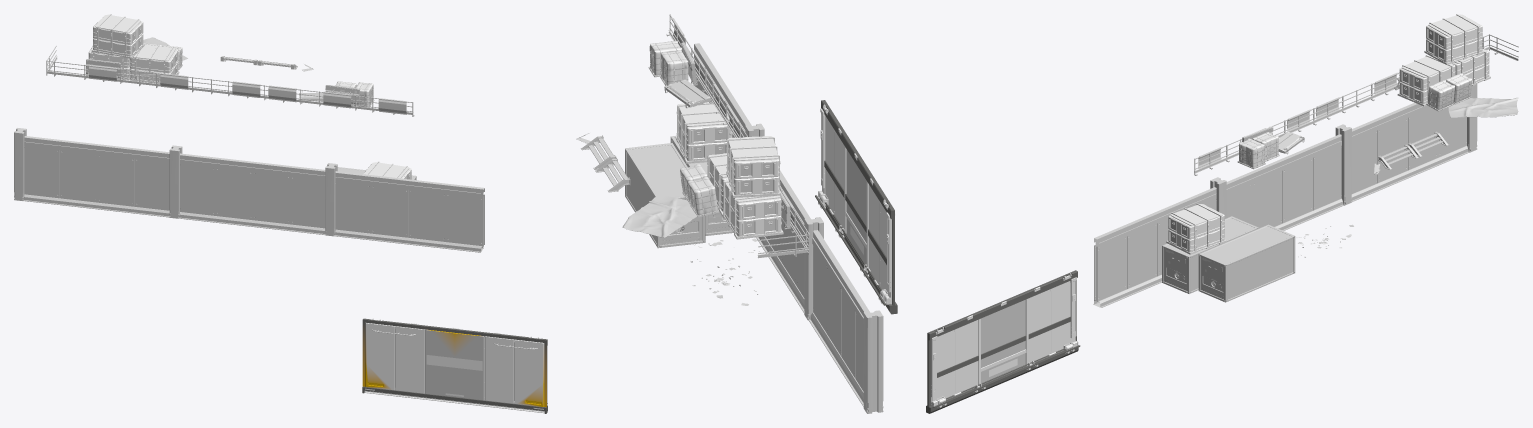
File: cell_165_103.fbx
3 renders of one model, left to right at view 1: azimuth 30°, elevation 25°; view 2: azimuth 150°, elevation 25°; view 3: azimuth 270°, elevation 25°, orthographic. The views are drawn at different scales.
Visible parts, largest first — view 1: SM_H_Customiz_FoldDoor_01B.mo, SM_H_Fence_SoundproofWall_02.mo.011, SM_H_Fence_SoundproofWall_02.mo.010, SM_H_Fence_SoundproofWall_02.mo.009, SM_H_Industrial_Container_SupplyBox_01.mo.021, SM_H_Industrial_Container_SupplyBox_01.mo.023, SM_H_Industrial_Container_SupplyBox_01.mo.035; view 2: SM_H_Customiz_FoldDoor_01B.mo, SM_H_Fence_SoundproofWall_02.mo.009, SM_H_Industrial_Container_02.mo.272, SM_H_Fence_SoundproofWall_02.mo.010, SM_H_Industrial_Container_SupplyBox_01.mo.021, SM_H_Industrial_Container_SupplyBox_01.mo.035, SM_H_Industrial_Container_SupplyBox_01.mo.022, SM_H_IceLand_Props_WeatherCloth_05a.mo.002, SM_H_Fence_SoundproofWall_02.mo.011, SM_H_Industrial_Container_SupplyBox_02B.mo.056, SM_H_Industrial_Container_SupplyBox_02B.mo.063, SM_H_Industrial_Container_SupplyBox_01.mo.023 (+8 smaller); view 3: SM_H_Customiz_FoldDoor_01B.mo, SM_H_Fence_SoundproofWall_02.mo.010, SM_H_Fence_SoundproofWall_02.mo.009, SM_H_Fence_SoundproofWall_02.mo.011, SM_H_Industrial_Container_02.mo.272, SM_H_Industrial_Container_SupplyBox_01.mo.021, SM_H_Industrial_Container_SupplyBox_01.mo.035, SM_H_Industrial_Container_02.mo.273, SM_H_Industrial_Container_SupplyBox_01.mo.023, SM_H_IceLand_Props_WeatherCloth_05a.mo.002, SM_H_Industrial_Container_SupplyBox_01.mo.022, SM_H_Industrial_Container_SupplyBox_02B.mo.058 (+1 smaller).
Boxes of the visible parts, box(x1,y1,x2,y2) form: SM_H_Customiz_FoldDoor_01B.mo: box(362, 318, 547, 413); SM_H_Fence_SoundproofWall_02.mo.011: box(325, 163, 484, 252); SM_H_Fence_SoundproofWall_02.mo.010: box(169, 145, 325, 234); SM_H_Fence_SoundproofWall_02.mo.009: box(14, 128, 169, 217); SM_H_Industrial_Container_SupplyBox_01.mo.021: box(91, 14, 144, 58); SM_H_Industrial_Container_SupplyBox_01.mo.023: box(129, 43, 179, 83); SM_H_Industrial_Container_SupplyBox_01.mo.035: box(363, 161, 411, 179); SM_H_Customiz_FoldDoor_01B.mo: box(815, 100, 897, 314); SM_H_Fence_SoundproofWall_02.mo.009: box(808, 230, 883, 413); SM_H_Industrial_Container_02.mo.272: box(625, 143, 705, 248); SM_H_Fence_SoundproofWall_02.mo.010: box(756, 170, 823, 320); SM_H_Industrial_Container_SupplyBox_01.mo.021: box(726, 136, 780, 197); SM_H_Industrial_Container_SupplyBox_01.mo.035: box(675, 101, 732, 163); SM_H_Industrial_Container_SupplyBox_01.mo.022: box(721, 179, 783, 239); SM_H_IceLand_Props_WeatherCloth_05a.mo.002: box(622, 195, 697, 237); SM_H_Fence_SoundproofWall_02.mo.011: box(694, 43, 764, 137); SM_H_Industrial_Container_SupplyBox_02B.mo.056: box(687, 176, 718, 217); SM_H_Industrial_Container_SupplyBox_02B.mo.063: box(660, 50, 688, 85); SM_H_Industrial_Container_SupplyBox_01.mo.023: box(707, 153, 728, 213); SM_H_Customiz_FoldDoor_01B.mo: box(926, 270, 1080, 413); SM_H_Fence_SoundproofWall_02.mo.010: box(1226, 124, 1351, 230); SM_H_Fence_SoundproofWall_02.mo.009: box(1351, 84, 1477, 201); SM_H_Fence_SoundproofWall_02.mo.011: box(1093, 177, 1226, 307); SM_H_Industrial_Container_02.mo.272: box(1198, 224, 1295, 302); SM_H_Industrial_Container_SupplyBox_01.mo.021: box(1424, 14, 1484, 64); SM_H_Industrial_Container_SupplyBox_01.mo.035: box(1166, 203, 1226, 254); SM_H_Industrial_Container_02.mo.273: box(1162, 216, 1258, 293); SM_H_Industrial_Container_SupplyBox_01.mo.023: box(1397, 55, 1455, 106); SM_H_IceLand_Props_WeatherCloth_05a.mo.002: box(1448, 97, 1518, 117); SM_H_Industrial_Container_SupplyBox_01.mo.022: box(1452, 49, 1490, 85); SM_H_Industrial_Container_SupplyBox_02B.mo.058: box(1426, 80, 1454, 111).
Size of the model in its own units: 23.98 by 19.79 by 37.
